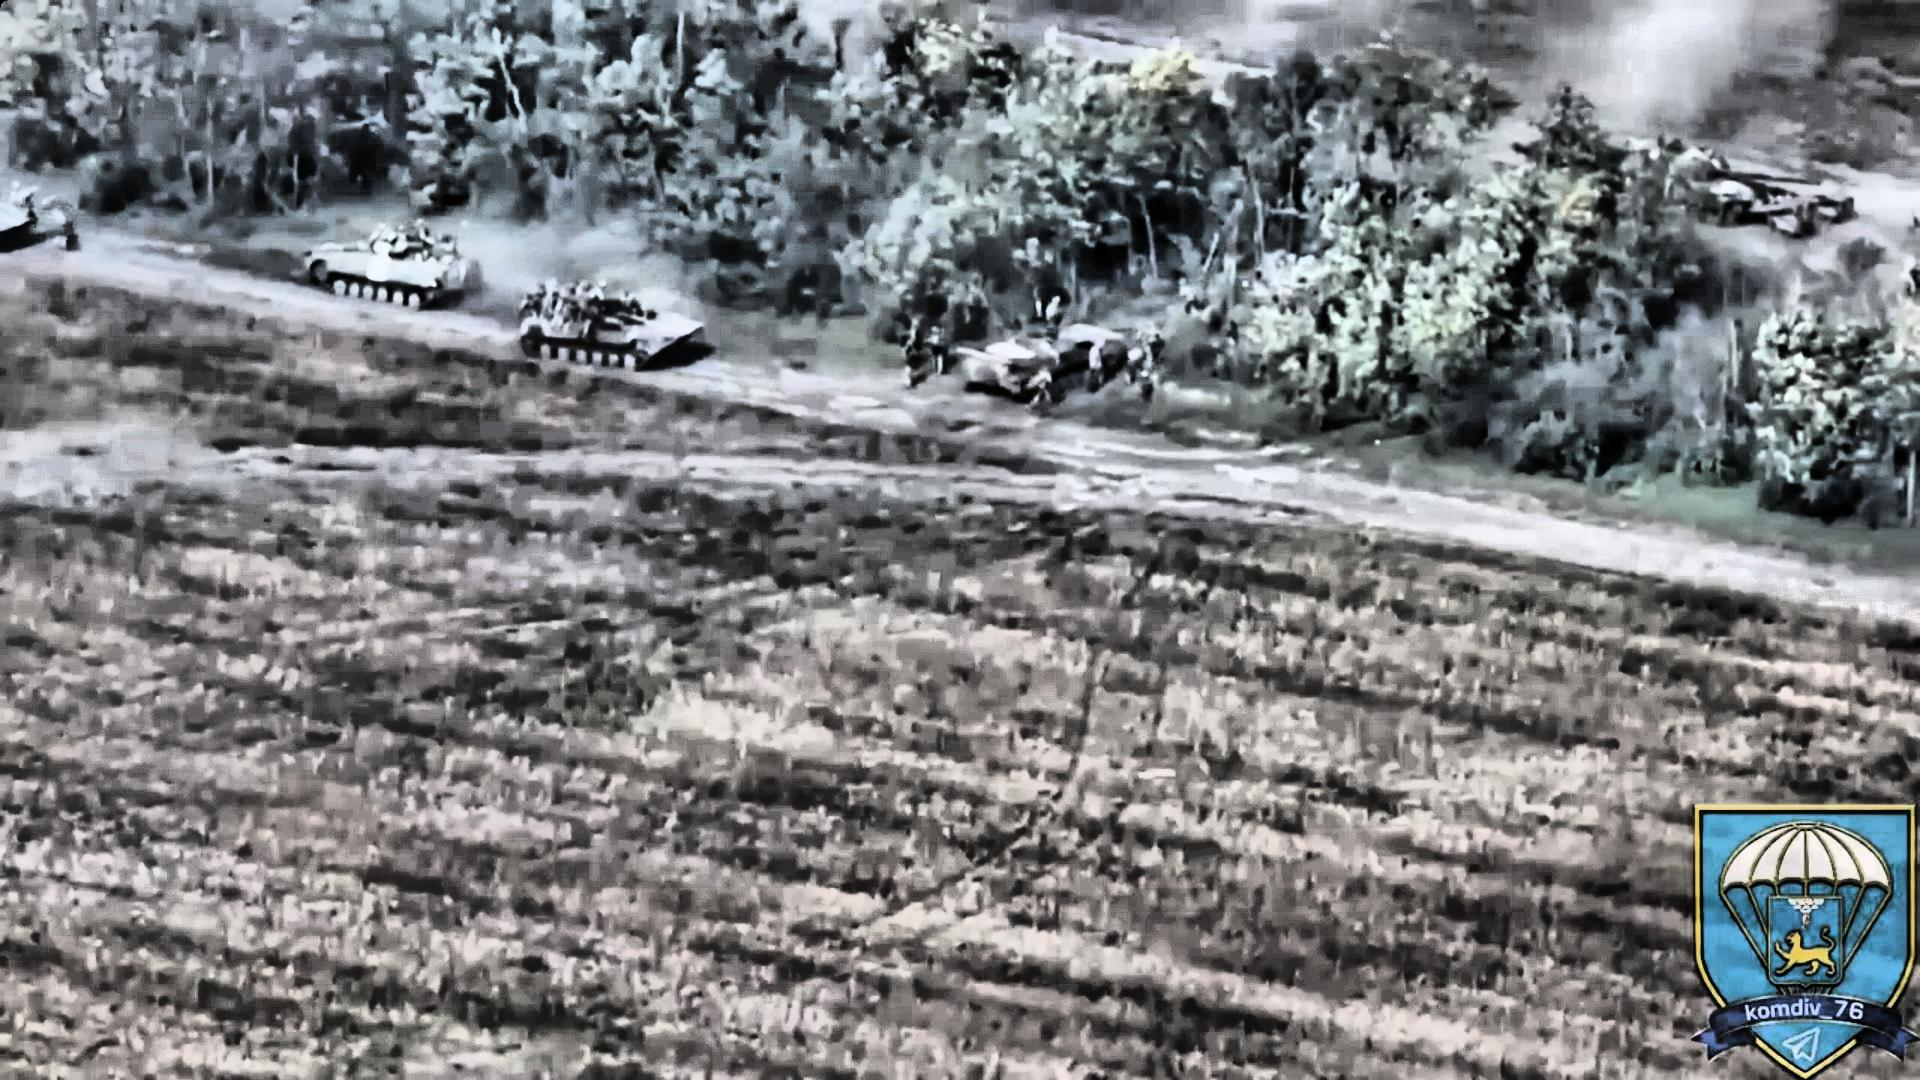military-vehicle: (517, 276, 699, 368), (303, 220, 487, 311), (961, 323, 1131, 402)
